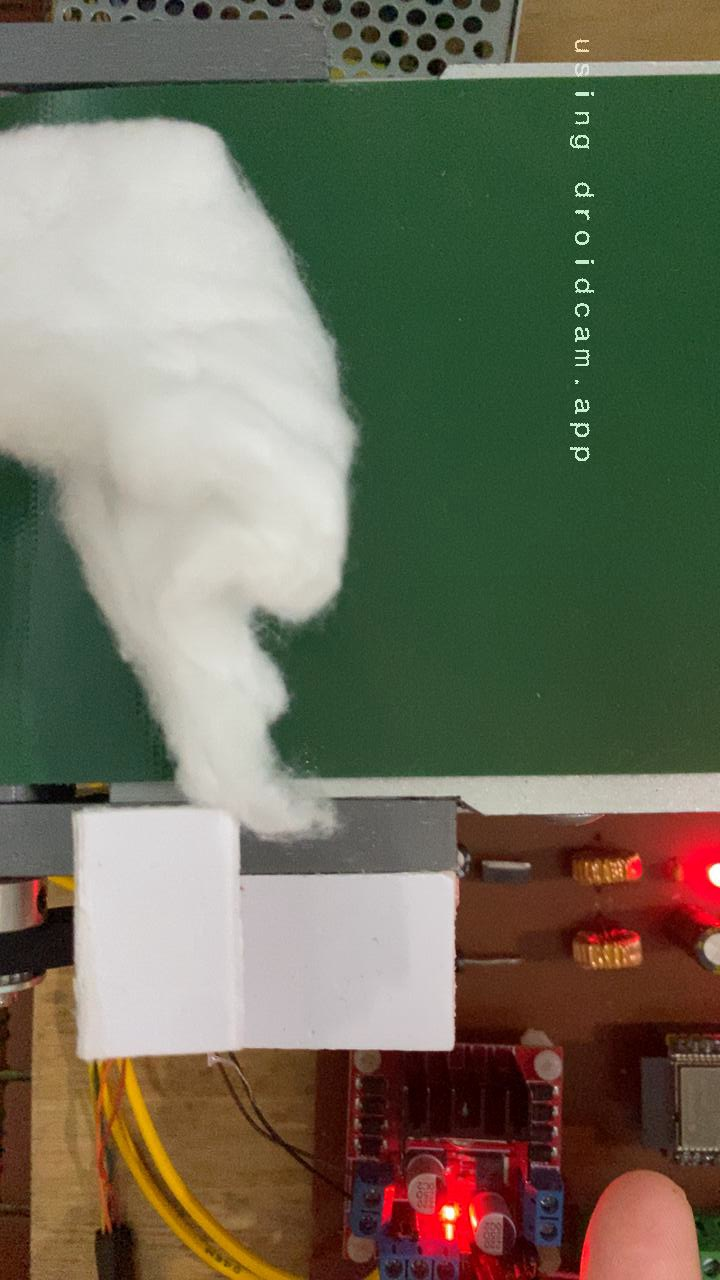cotton: (0, 111, 367, 775)
